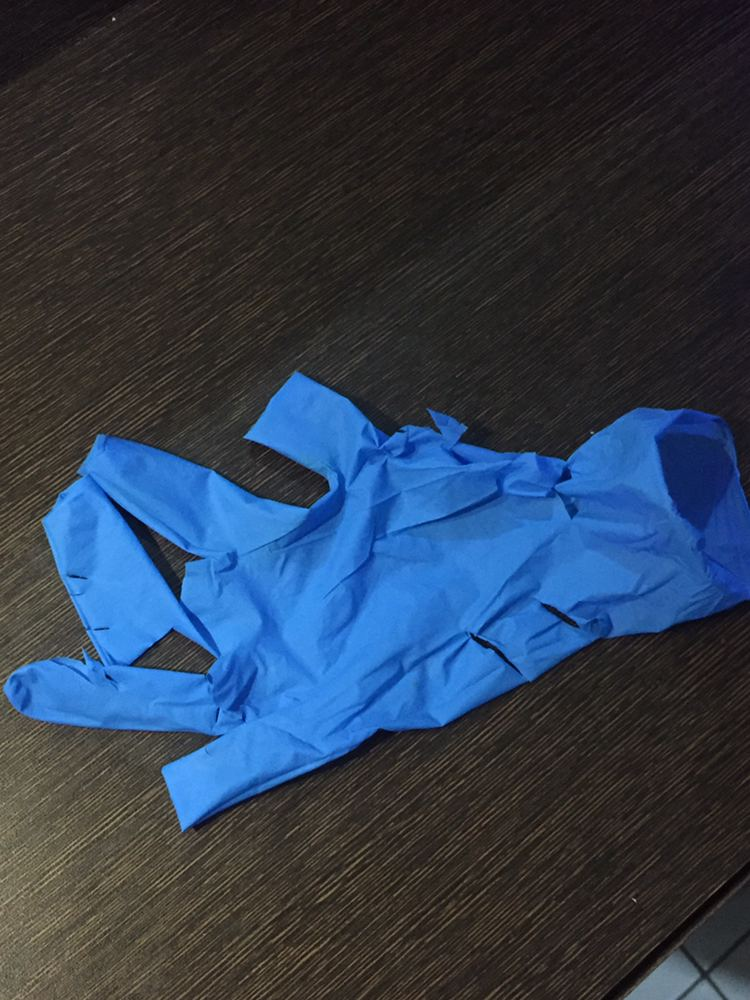defected: (17, 336, 749, 870)
